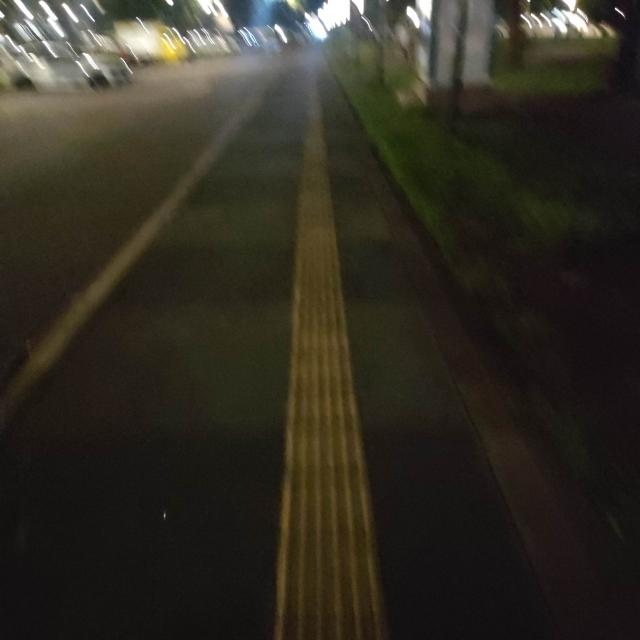lurus: (272, 155, 390, 640)
